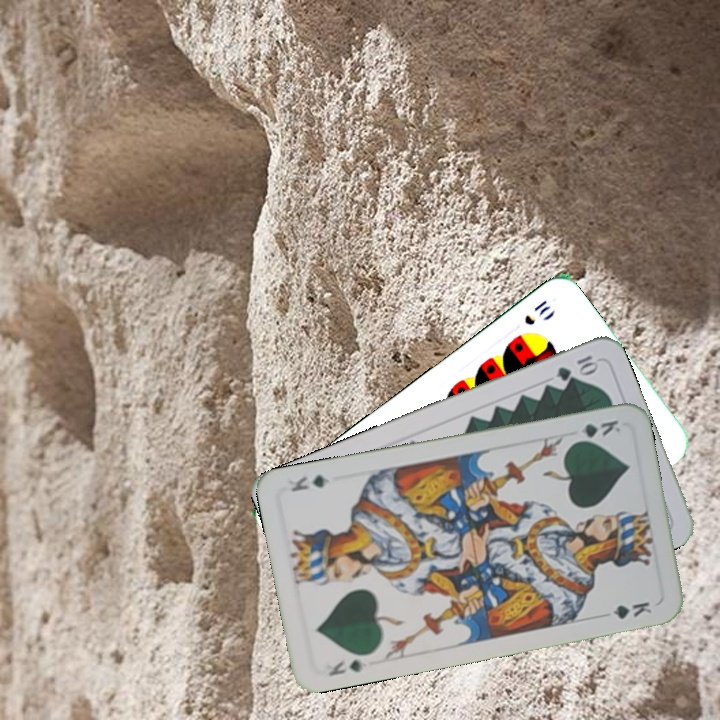G10: (552, 351, 601, 384)
GK: (568, 416, 623, 446), (325, 653, 370, 679)
S10: (520, 296, 553, 328)
